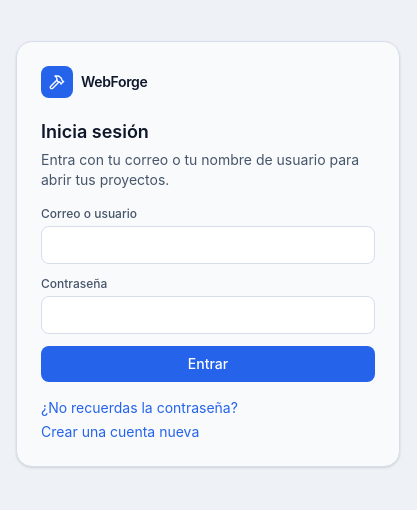
Test: LoginPage › avisa cuando el servidor no responde
The image size is (417, 510).
Type "ana@dominio.dev" into the field labelled "Correo o usuario".
click(208, 245); type("ana@dominio.dev")  # box top-left (41, 226), bottom-right (375, 264)
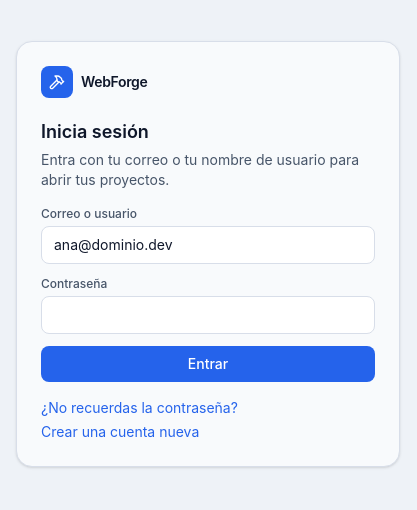
Type "S3creta-fuerte" into the password field labelled "Contraseña".
click(208, 315); type("S3creta-fuerte")  # box top-left (41, 296), bottom-right (375, 334)
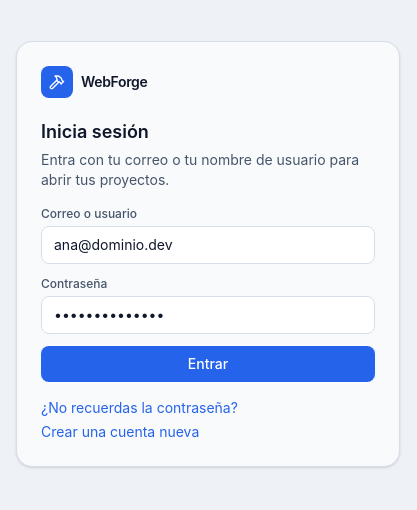
Submit the form named "Inicia sesión", box top-left (41, 206), bottom-right (375, 382)
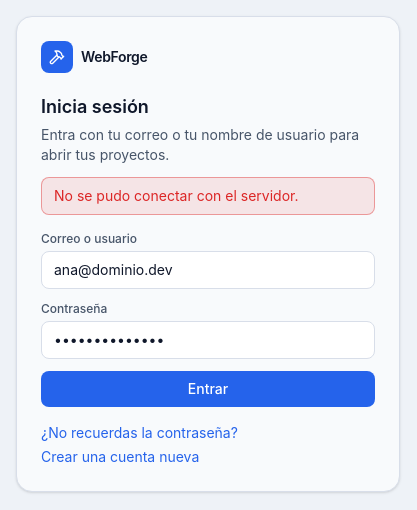
Expected: the message shows "servidor", top-left (54, 187), bottom-right (298, 204)
